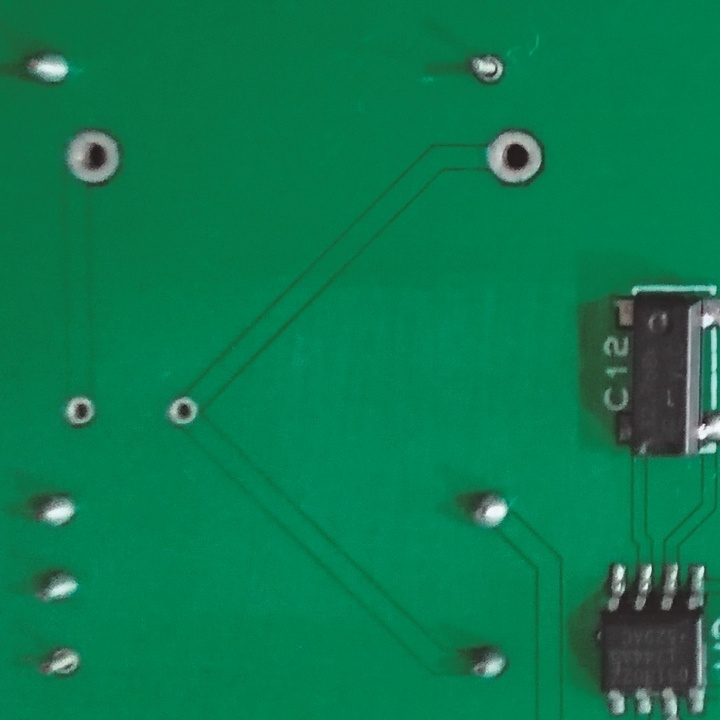F: (481, 126, 548, 187), (60, 126, 124, 189), (39, 643, 83, 681), (467, 52, 508, 88), (61, 394, 99, 431), (165, 395, 201, 429)
